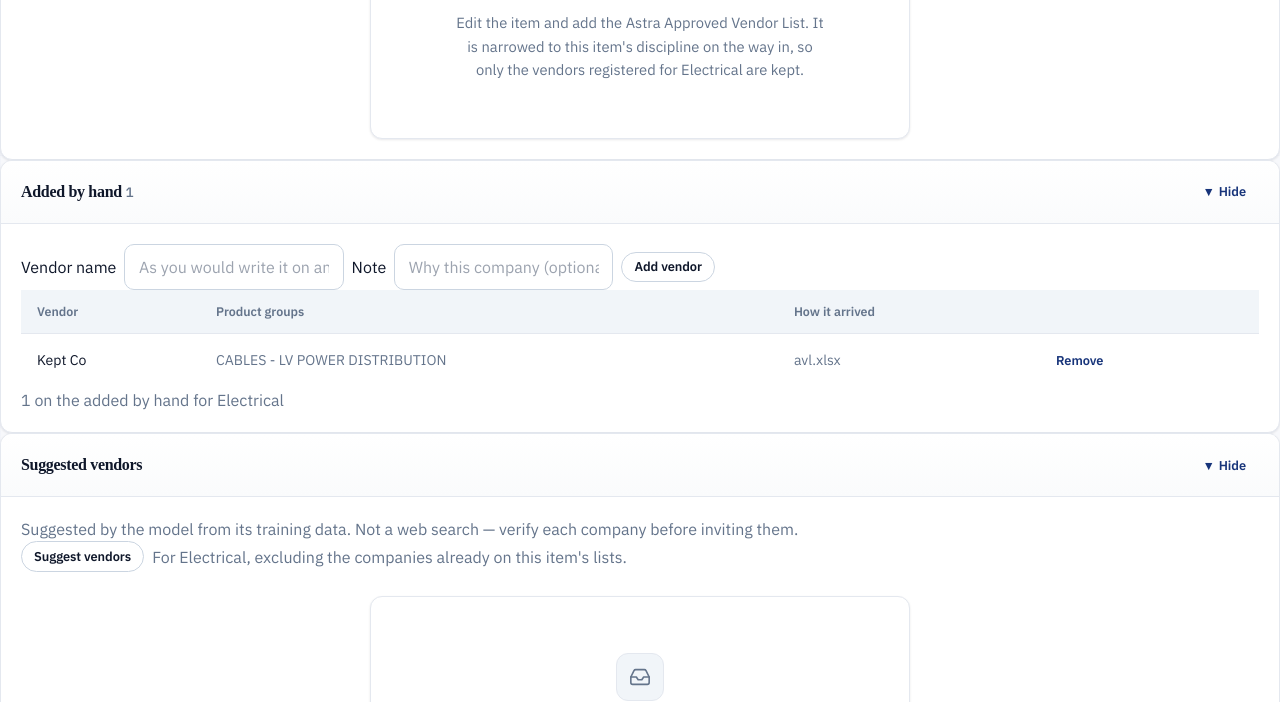
Test case: ItemDetail › a vendor added by hand › shows a refused removal beside the row it refused
The width and height of the screenshot is (1280, 702).
(page scrolled)
Click the button with aria-label "remove Kept Co": (1080, 361) [1043,346,1116,376]
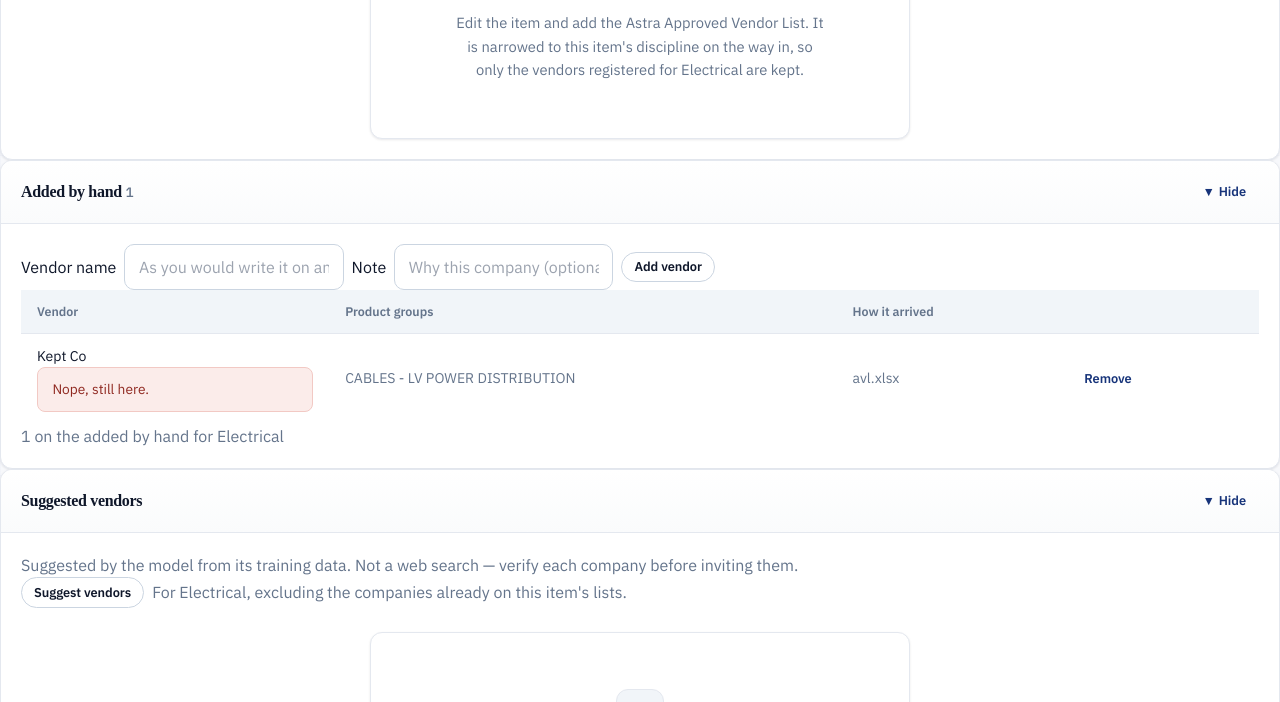
Expected: the text "Kept Co" is shown, [37,347,86,365]
Expected: the message reads "Nope, still here.", [52,380,149,398]
